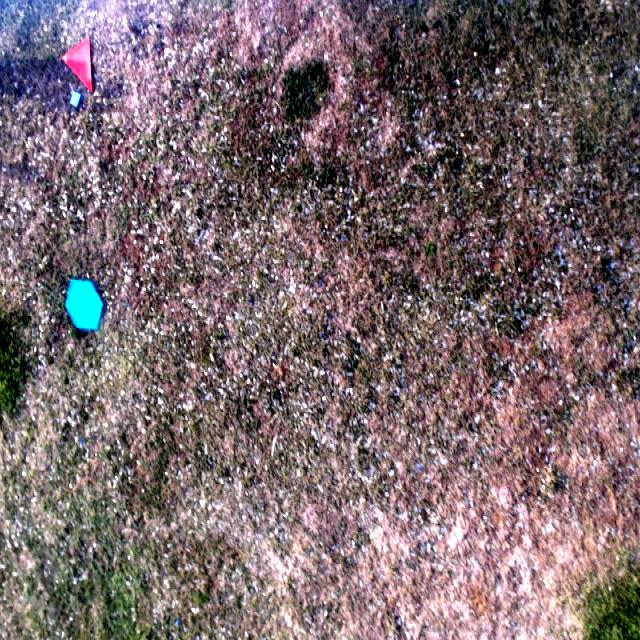blue_hexagon: (65, 280, 103, 330)
red_triangle: (62, 36, 93, 94)
